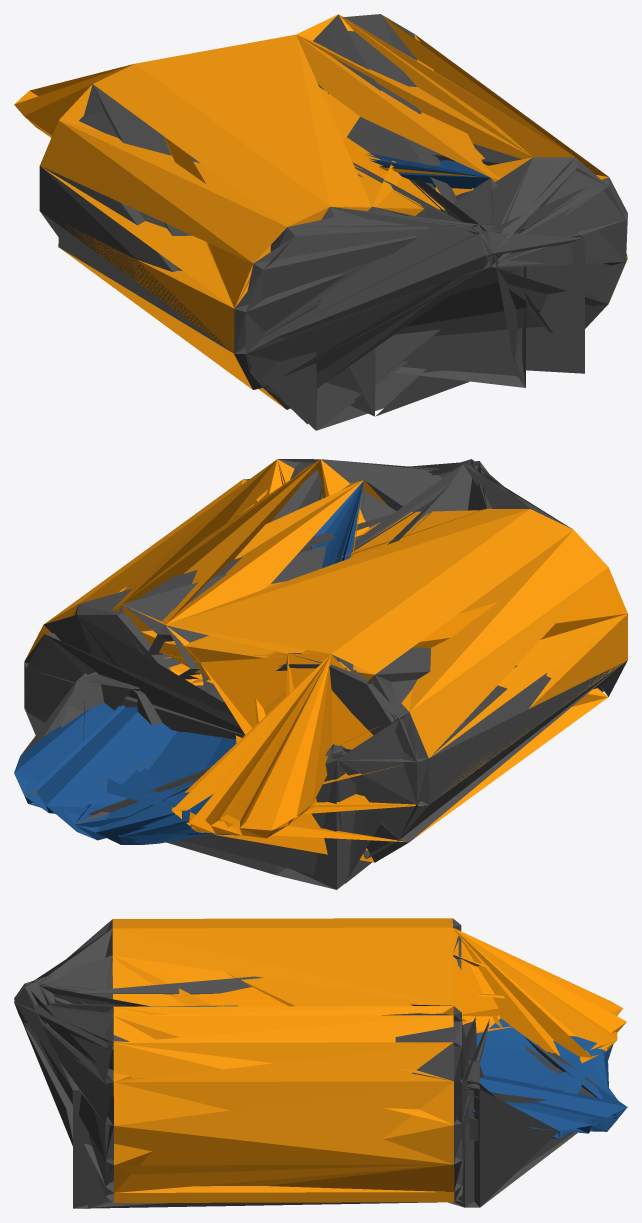
Rendered from S.S._Dolphin_Eternal_Fuel_Dynamo.obj.
The picture shows the model from 3 angles, top to bottom: view 1: azimuth 30°, elevation 25°; view 2: azimuth 150°, elevation 25°; view 3: azimuth 270°, elevation 25°; orthographic projection. The views are drawn at different scales.
Parts seen in each view (by area): view 1: S.S._Dolphin_Eternal_Fuel_Dynamo; view 2: S.S._Dolphin_Eternal_Fuel_Dynamo; view 3: S.S._Dolphin_Eternal_Fuel_Dynamo.
Part boxes in pixels (x1,y1,x2,y2): S.S._Dolphin_Eternal_Fuel_Dynamo: (14, 14, 627, 430); S.S._Dolphin_Eternal_Fuel_Dynamo: (14, 459, 627, 889); S.S._Dolphin_Eternal_Fuel_Dynamo: (14, 918, 627, 1208).
Bounding box in the file's own units: 2.68 × 1.35 × 4.13.
